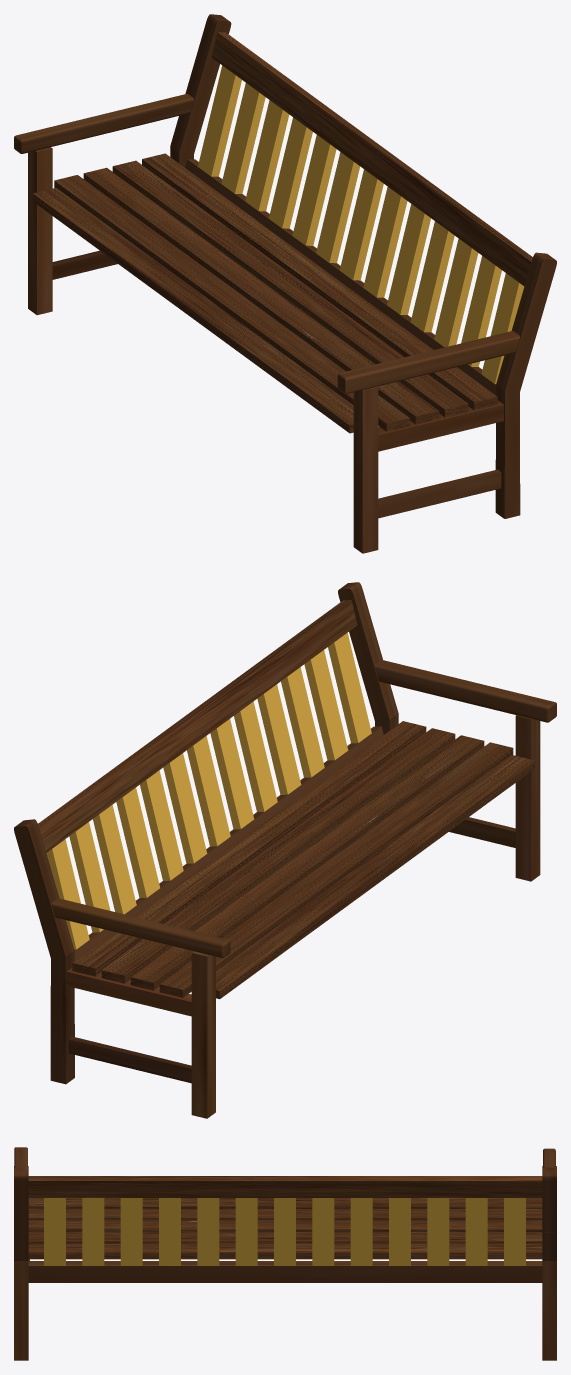
The model's file is bench.fbx.
3 renders of one model, top to bottom at view 1: azimuth 30°, elevation 25°; view 2: azimuth 150°, elevation 25°; view 3: azimuth 270°, elevation 25°, orthographic. The views are drawn at different scales.
Parts seen in each view (by area): view 1: Cube.004, Cube.005, Cube.006, Cube.002, Cube.003, Cube.013, Cube, Cube.009, Cube.012, Cube.001, Cube.011, Cube.008 (+1 smaller); view 2: Cube.004, Cube.005, Cube.006, Cube.001, Cube.013, Cube, Cube.003, Cube.009, Cube.012, Cube.002, Cube.010, Cube.007 (+1 smaller); view 3: Cube.005, Cube.004, Cube.006, Cube.009, Cube.001, Cube.002, Cube.013.
Part boxes in pixels (box(x1,y1,x2,y2)): Cube.004: box(33, 153, 497, 433); Cube.005: box(198, 65, 524, 383); Cube.006: box(211, 32, 532, 286); Cube.002: box(495, 252, 556, 518); Cube.003: box(353, 386, 378, 553); Cube.013: box(337, 331, 519, 393); Cube: box(28, 147, 52, 315); Cube.009: box(185, 159, 495, 394); Cube.012: box(14, 93, 193, 153); Cube.001: box(170, 14, 231, 167); Cube.011: box(378, 469, 501, 518); Cube.008: box(378, 400, 503, 451); Cube.004: box(72, 721, 534, 999); Cube.005: box(46, 633, 371, 949); Cube.006: box(38, 600, 357, 852); Cube.001: box(14, 819, 74, 1084); Cube.013: box(374, 660, 556, 722); Cube: box(191, 951, 215, 1118); Cube.003: box(515, 715, 540, 881); Cube.009: box(74, 726, 383, 960); Cube.012: box(51, 898, 230, 958); Cube.002: box(338, 582, 398, 734); Cube.010: box(68, 1036, 191, 1083); Cube.007: box(66, 967, 191, 1016); Cube.005: box(44, 1198, 525, 1265); Cube.004: box(28, 1198, 542, 1259); Cube.006: box(28, 1176, 542, 1197); Cube.009: box(28, 1261, 542, 1282); Cube.001: box(542, 1167, 556, 1360); Cube.002: box(14, 1167, 28, 1360); Cube.013: box(14, 1147, 27, 1167).
Size of the model in its own units: 136 by 153 by 372.
